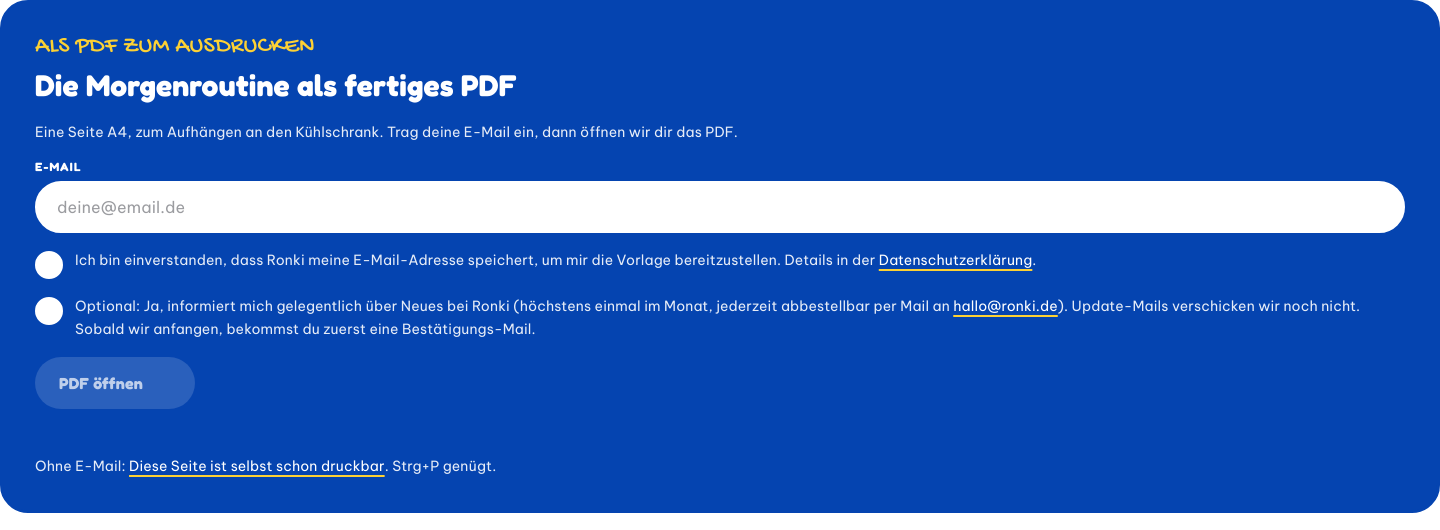
Test: VorlageDownload › keeps the submit button disabled until consent and a valid email are there
This screenshot has width=1440, height=530.
Check: the button "PDF öffnen" is disabled, box x1=35 y1=357 x2=195 y2=409
In the field labelled "E-Mail": (720, 207) x1=35 y1=181 x2=1405 y2=233, type "marc@example.com"
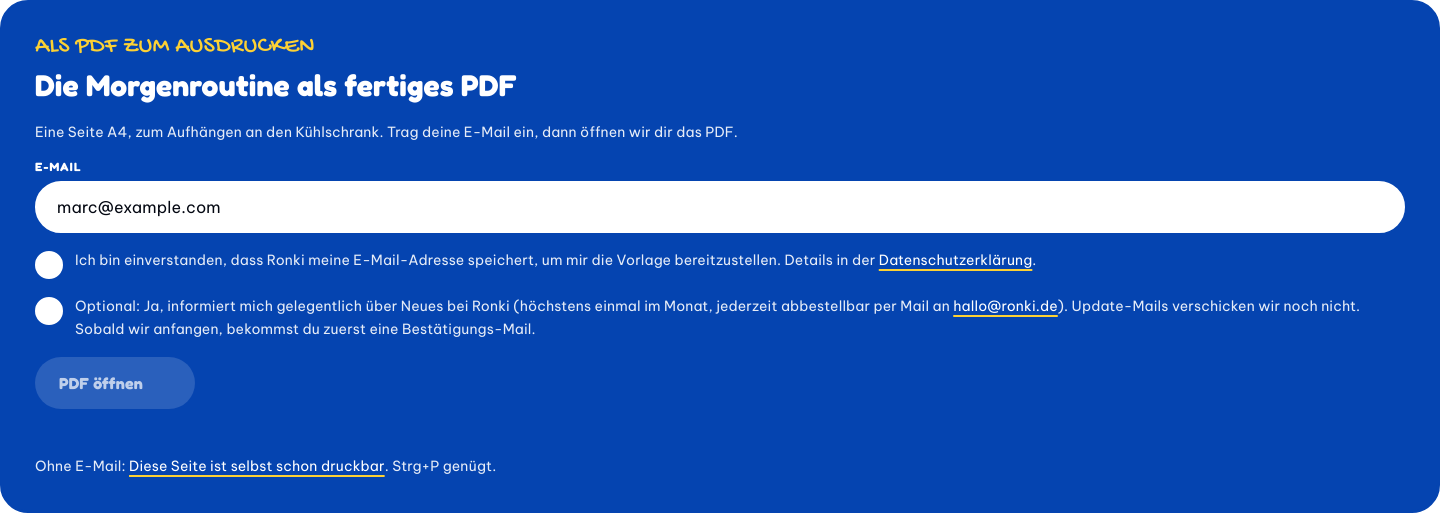
Check: the button "PDF öffnen" is disabled, box x1=35 y1=357 x2=195 y2=409
Click the 1st checkbox: (49, 265) x1=35 y1=251 x2=63 y2=279
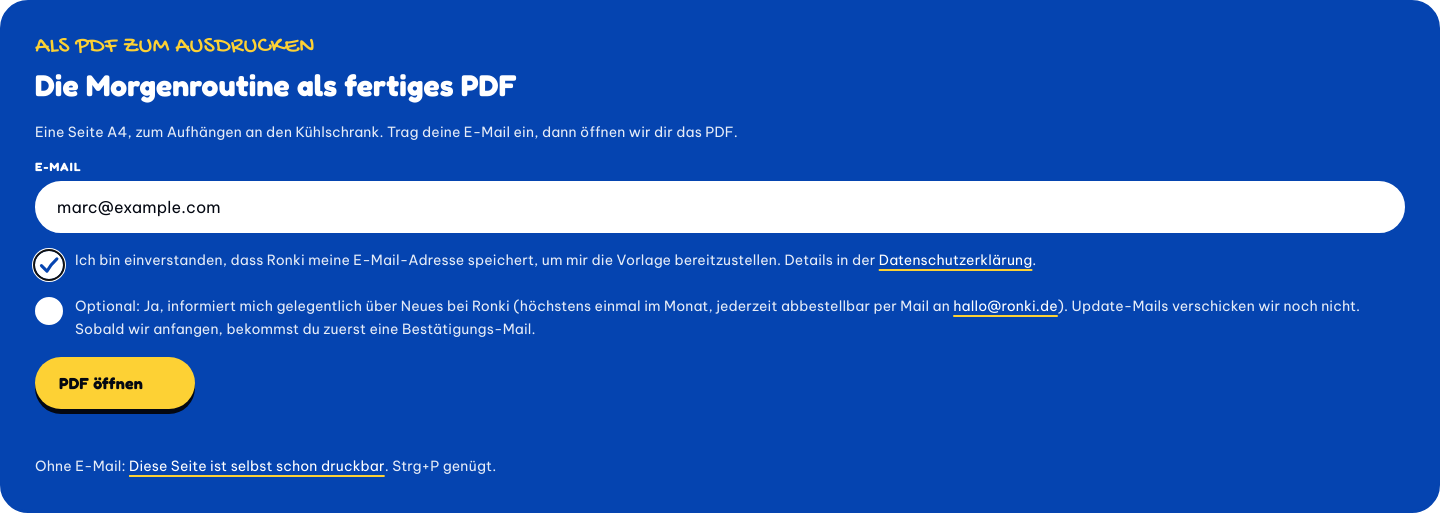
Check: the button "PDF öffnen" is enabled, box x1=35 y1=357 x2=195 y2=409
